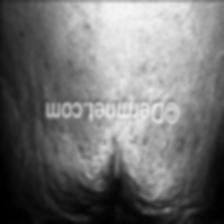Non-Cancerous Skin Condition: (176, 138, 184, 148)
